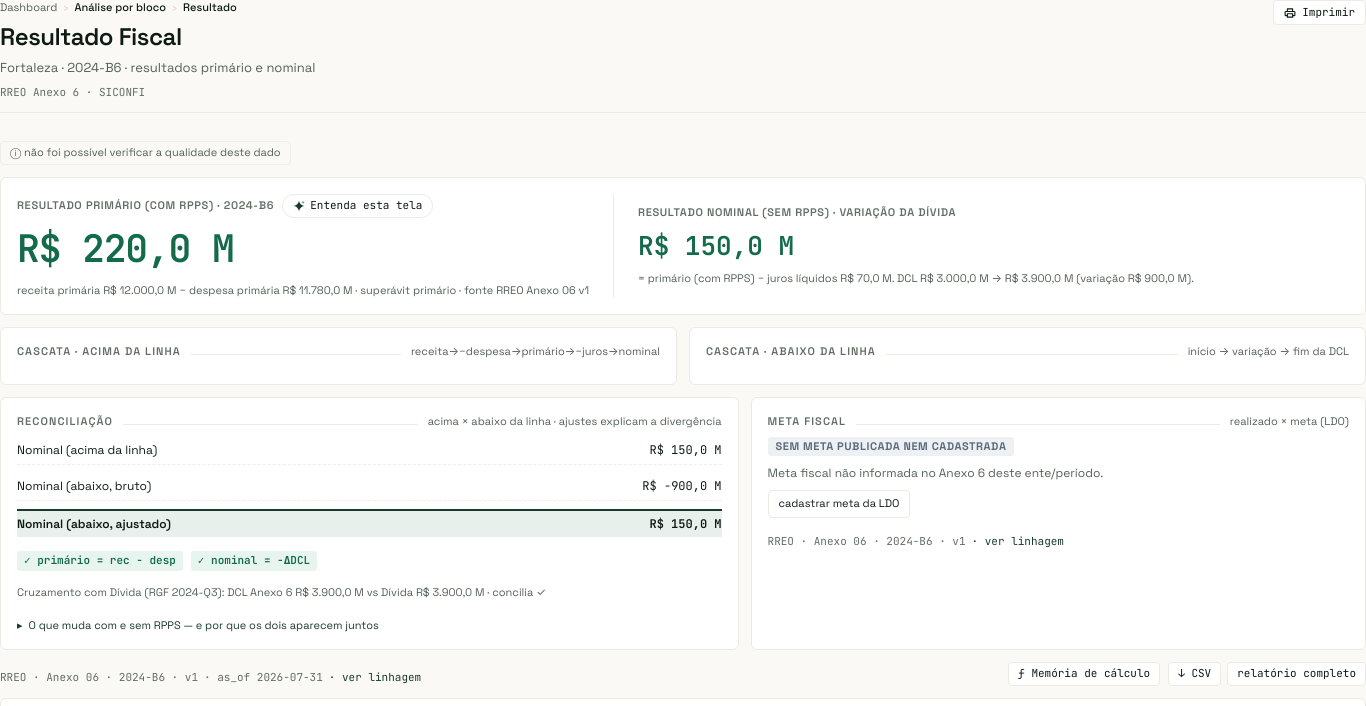
Test: Resultado — meta da LDO (decisão §11.5) › exige fonte declarada — número sem origem não entra
Click the button "cadastrar meta da LDO" at {"x": 839, "y": 504}, box [768,490,910,518]
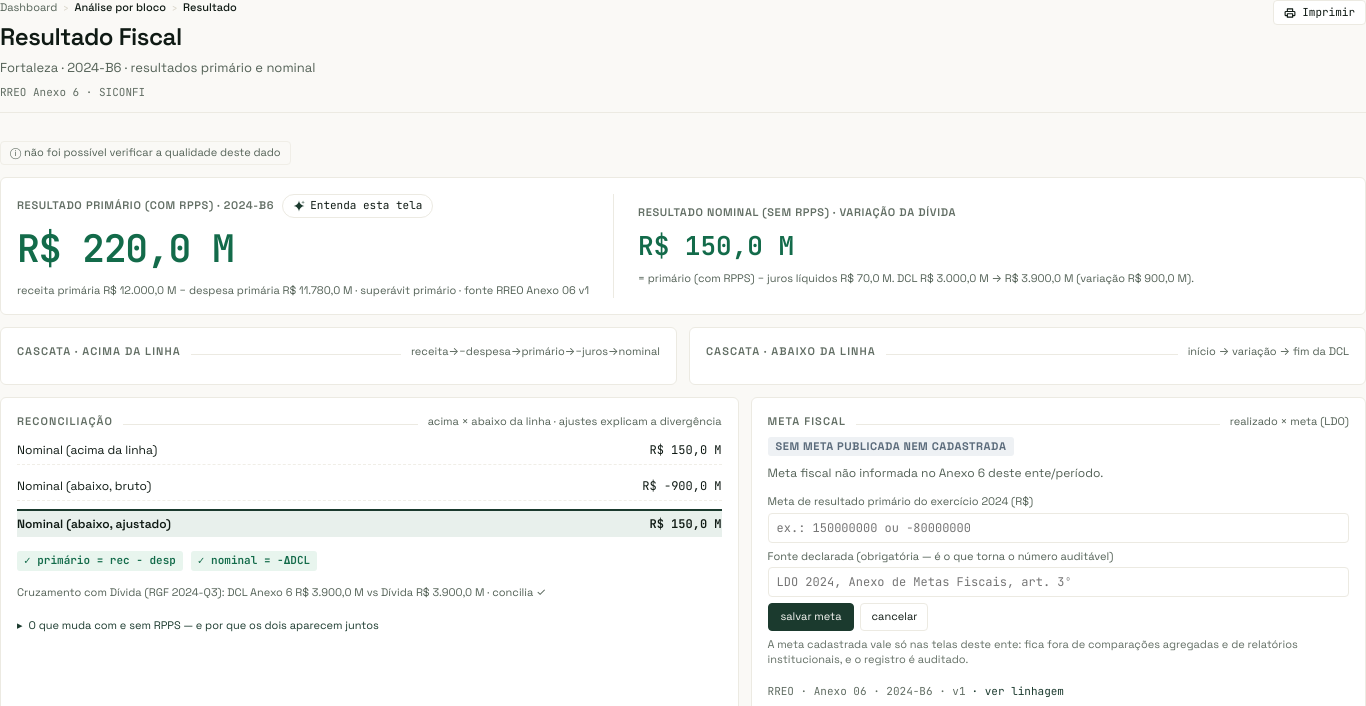
Type "250000000" into the field named "Meta de resultado primário em reais" at {"x": 1058, "y": 528}, box [768,513,1349,543]
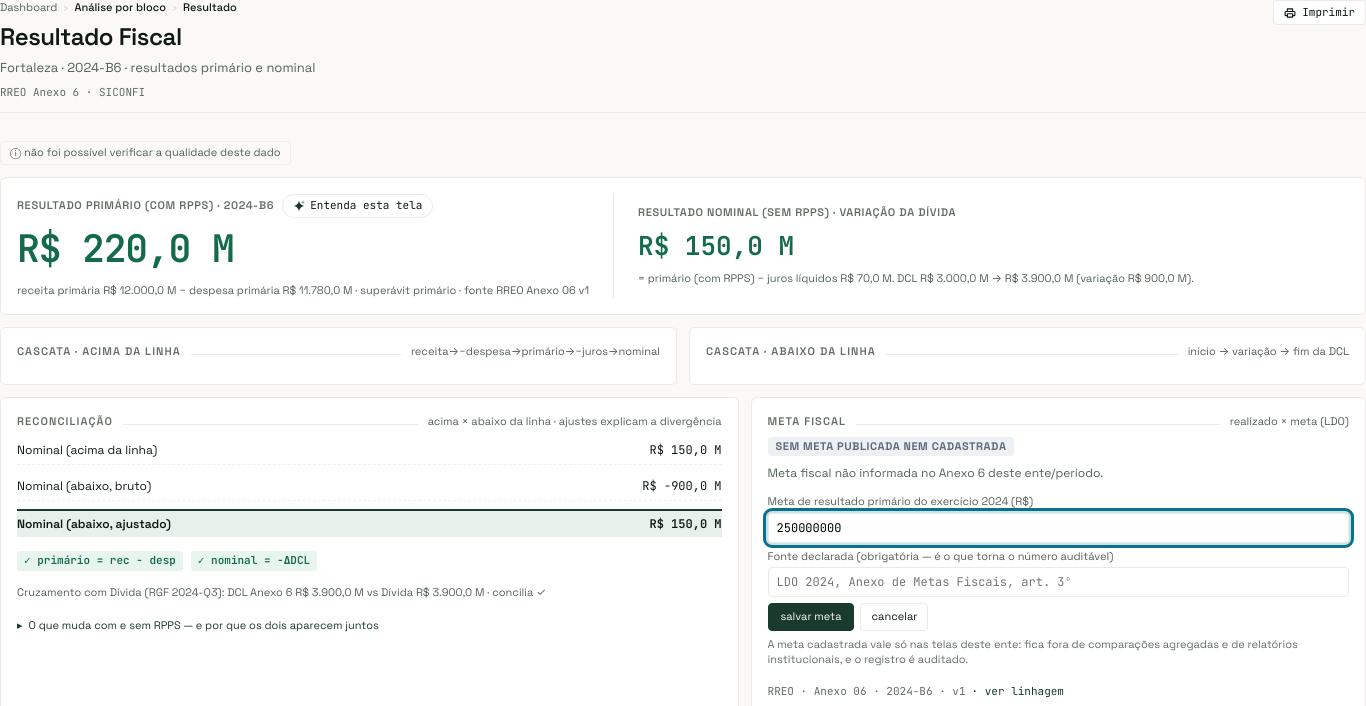
Click the button "salvar meta" at {"x": 811, "y": 617}, box [768,603,854,630]
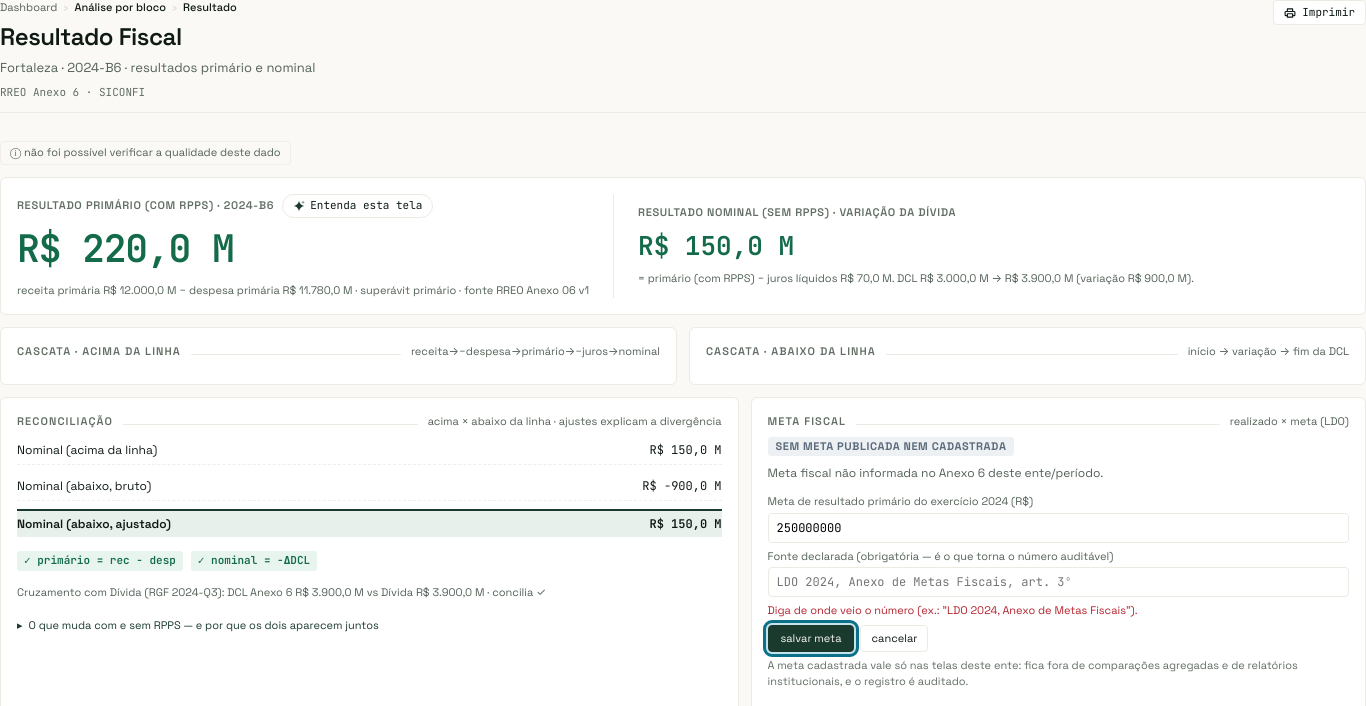
Expected: the text "Diga de onde veio o número" is shown, [768,603,1138,617]
